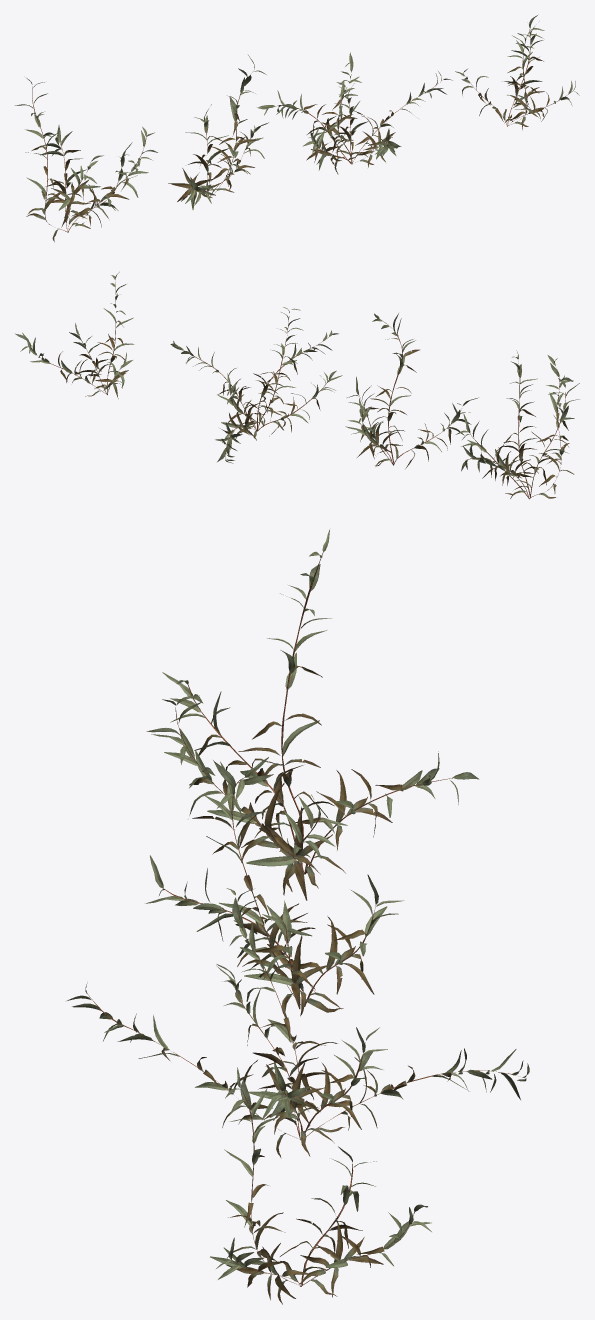
The model's file is shrub.glb.
3 renders of one model, top to bottom at view 1: azimuth 30°, elevation 25°; view 2: azimuth 150°, elevation 25°; view 3: azimuth 270°, elevation 25°, orthographic. The views are drawn at different scales.
Visible parts, largest first — view 1: shrub_02_c, shrub_02_a, shrub_02_b, shrub_02_d; view 2: shrub_02_a, shrub_02_c, shrub_02_b, shrub_02_d; view 3: shrub_02_a, shrub_02_c, shrub_02_b, shrub_02_d.
Part boxes in pixels (<box>): shrub_02_c: <box>257,52,452,174</box>; shrub_02_a: <box>15,78,157,242</box>; shrub_02_b: <box>168,55,268,209</box>; shrub_02_d: <box>455,15,579,130</box>; shrub_02_a: <box>455,350,579,499</box>; shrub_02_c: <box>170,307,342,463</box>; shrub_02_b: <box>345,313,478,468</box>; shrub_02_d: <box>15,272,134,398</box>; shrub_02_a: <box>146,529,479,900</box>; shrub_02_c: <box>67,888,529,1158</box>; shrub_02_b: <box>145,757,404,1017</box>; shrub_02_d: <box>210,1067,431,1304</box>.
Size of the model in its own units: 3.2 by 0.9 by 1.21.
1 material, 1 textured.
